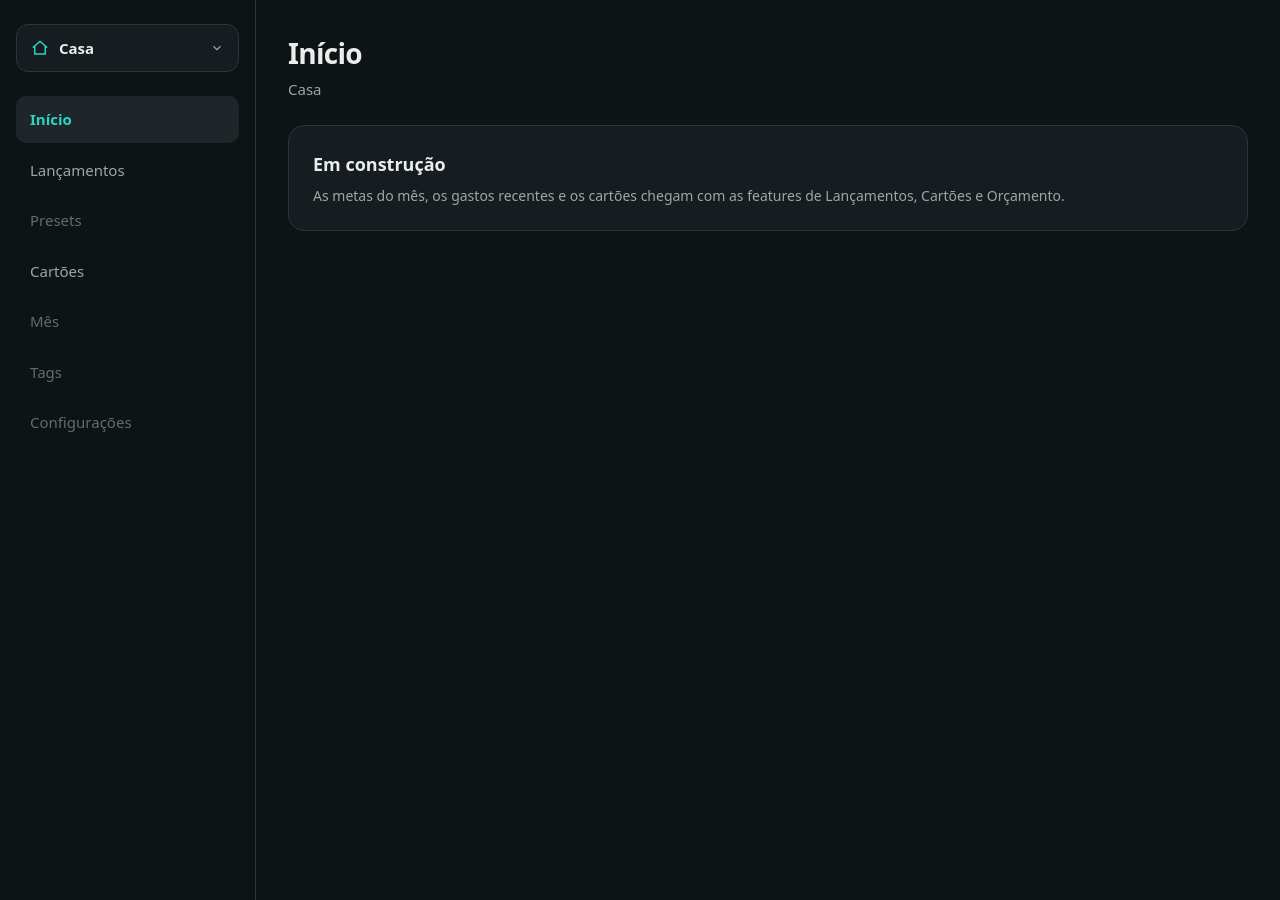
Test case: AppShell › troca de Casa para Empresa pelo seletor e muda a URL e o menu
Check: the link "Lançamentos" is shown, box x1=30 y1=160 x2=125 y2=180
Click the button with aria-label "Trocar de espaço, Casa" at (128, 48), box x1=16 y1=24 x2=239 y2=72
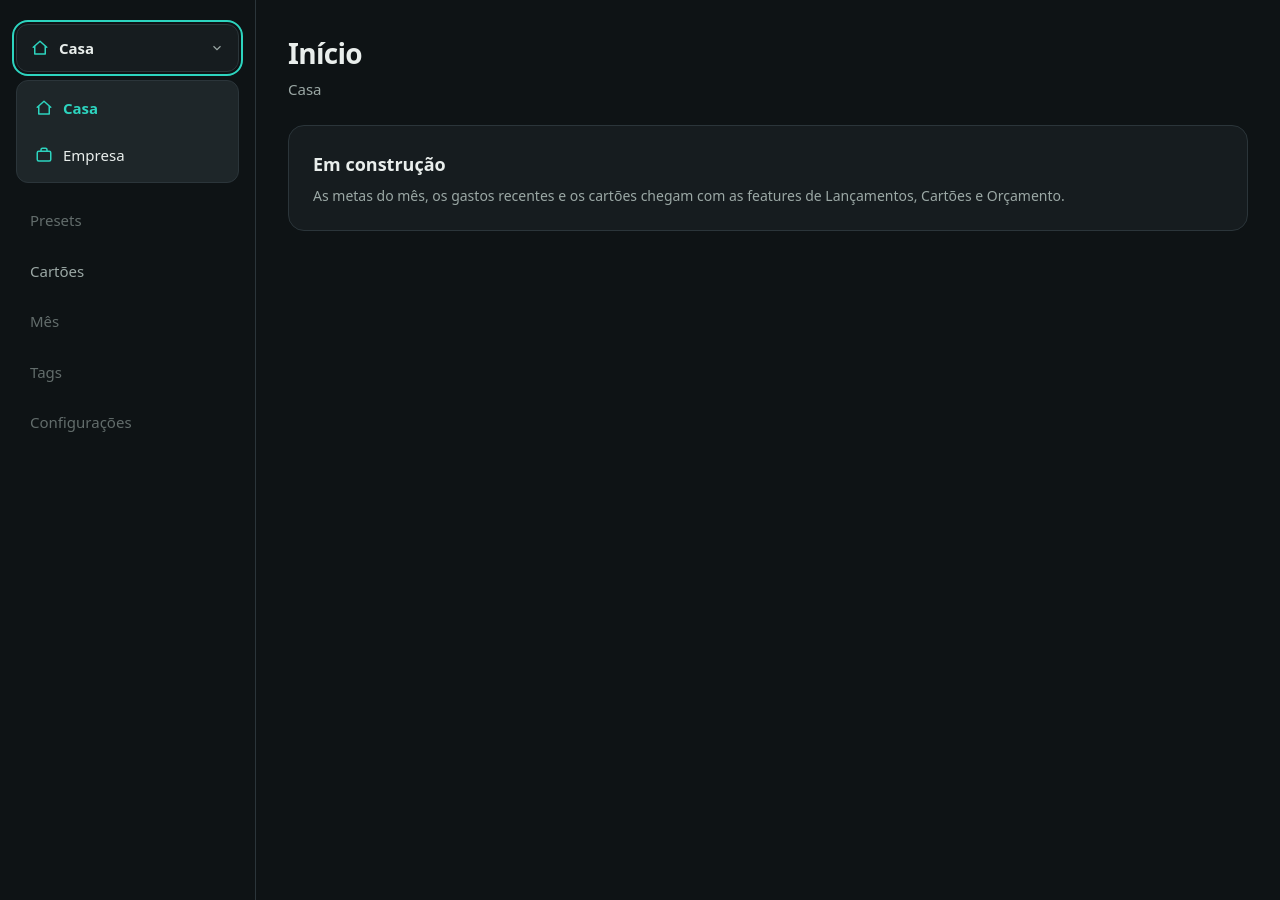
Click the link "Empresa" at (80, 154), box x1=35 y1=144 x2=124 y2=164
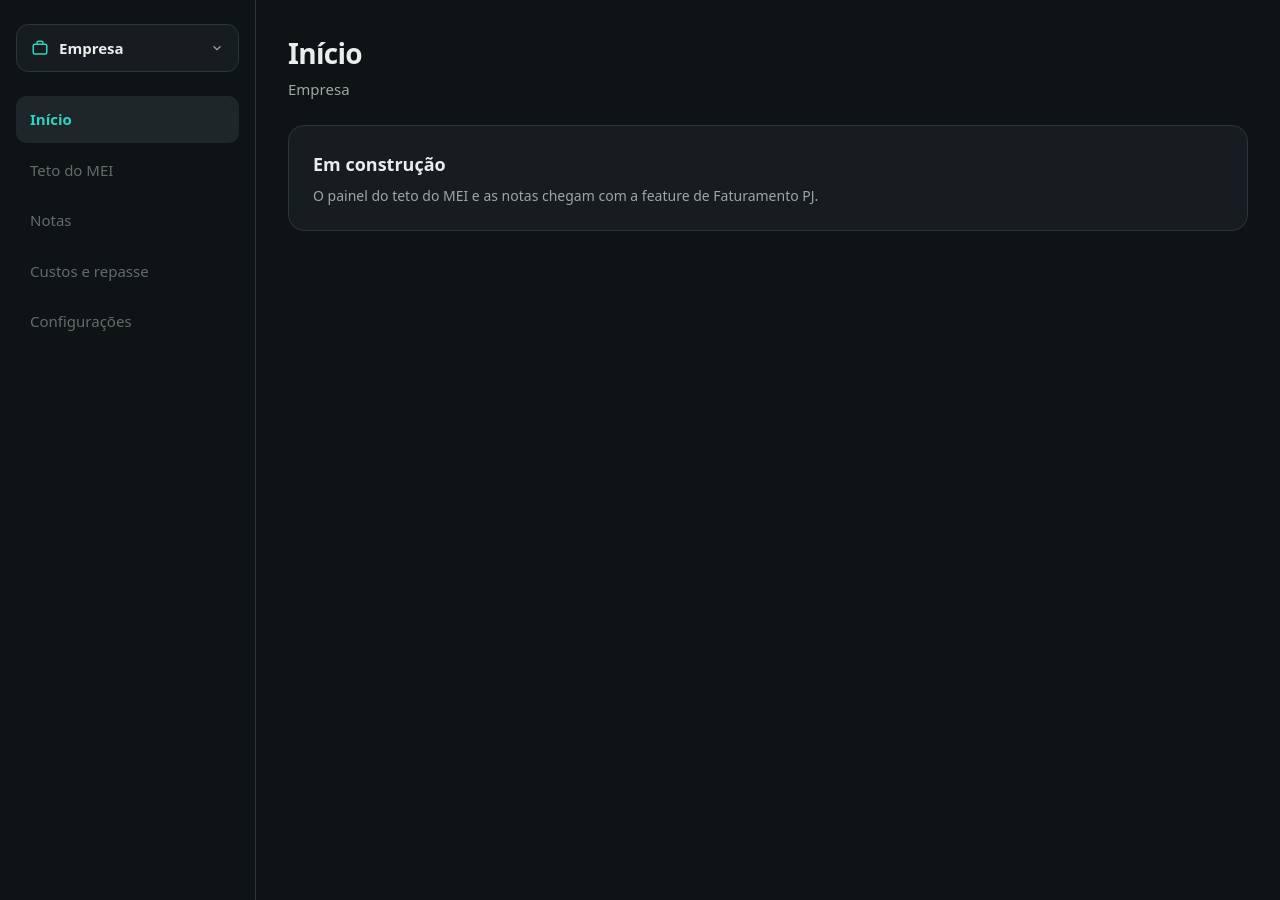
Check: the button with aria-label "Trocar de espaço, Empresa" is shown, box x1=16 y1=24 x2=239 y2=72
Check: the text "Teto do MEI" is shown, box x1=30 y1=158 x2=187 y2=180
Check: the link "Lançamentos" is gone
